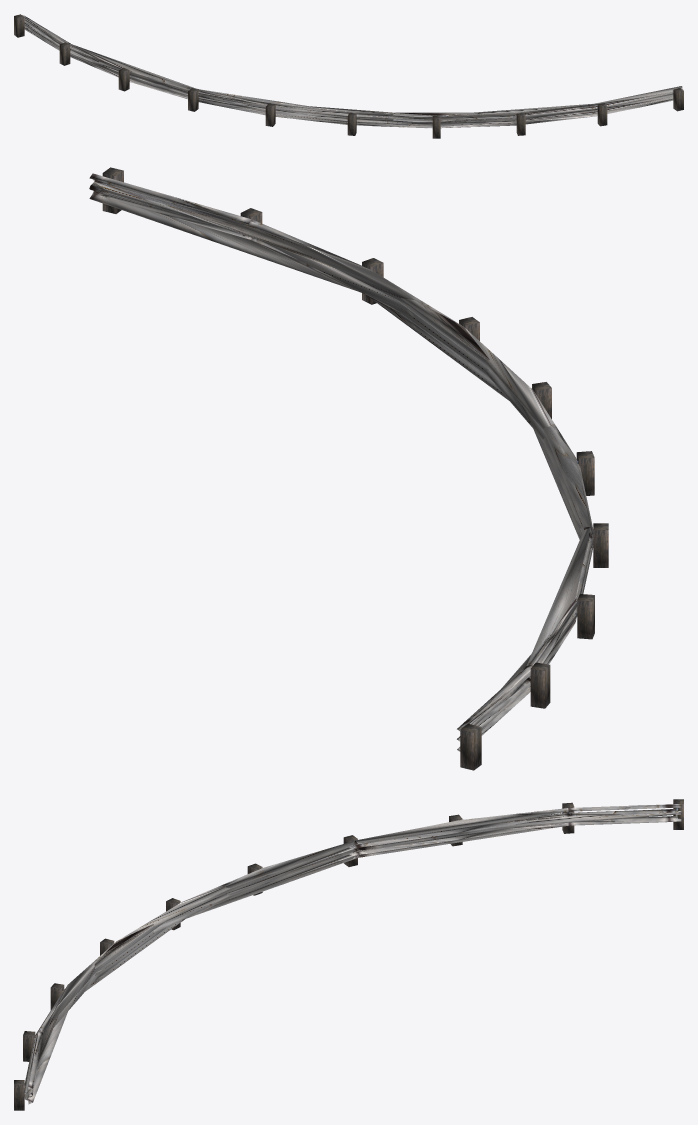
File: roadrail_curve_3.fbx
3 views of the same model, one above another, from view 1: azimuth 30°, elevation 25°; view 2: azimuth 150°, elevation 25°; view 3: azimuth 270°, elevation 25° (orthographic). The views are drawn at different scales.
Visible parts, largest first — view 1: rail0, posts0; view 2: rail0, posts0; view 3: rail0, posts0.
Part boxes in pixels (x1=…): rail0: x1=22, y1=15, x2=682, y2=128; posts0: x1=14, y1=14, x2=683, y2=138; rail0: x1=89, y1=173, x2=593, y2=751; posts0: x1=102, y1=167, x2=608, y2=770; rail0: x1=24, y1=804, x2=681, y2=1104; posts0: x1=14, y1=799, x2=683, y2=1110.
Size of the model in its own units: 40.22 by 1.7 by 39.6.
